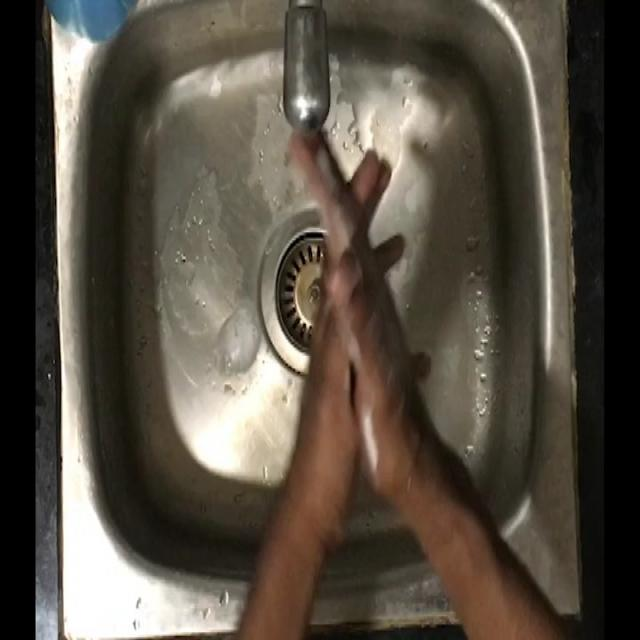step_3: (277, 97, 445, 485)
